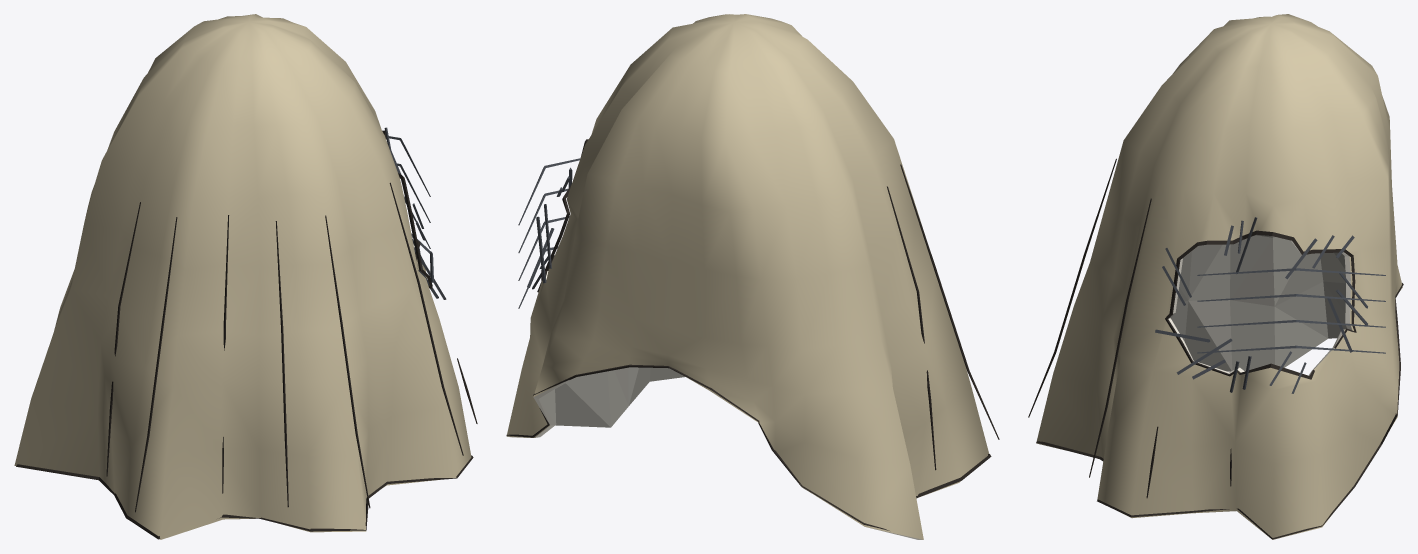
The model's file is ClothCover.fbx.
The picture shows the model from 3 angles, left to right: view 1: azimuth 30°, elevation 25°; view 2: azimuth 150°, elevation 25°; view 3: azimuth 270°, elevation 25°; orthographic projection. The views are drawn at different scales.
Visible parts, largest first — view 1: Cloth, Lines; view 2: Cloth, Lines; view 3: Cloth, Lines.
Boxes of the visible parts, bbox=[...] form: Cloth: bbox=[14, 14, 471, 539]; Lines: bbox=[16, 127, 477, 539]; Cloth: bbox=[506, 14, 989, 539]; Lines: bbox=[506, 139, 999, 530]; Cloth: bbox=[1036, 14, 1402, 539]; Lines: bbox=[1028, 158, 1403, 539].
Bounding box in the file's own units: 0.9807 × 0.979 × 0.79.
